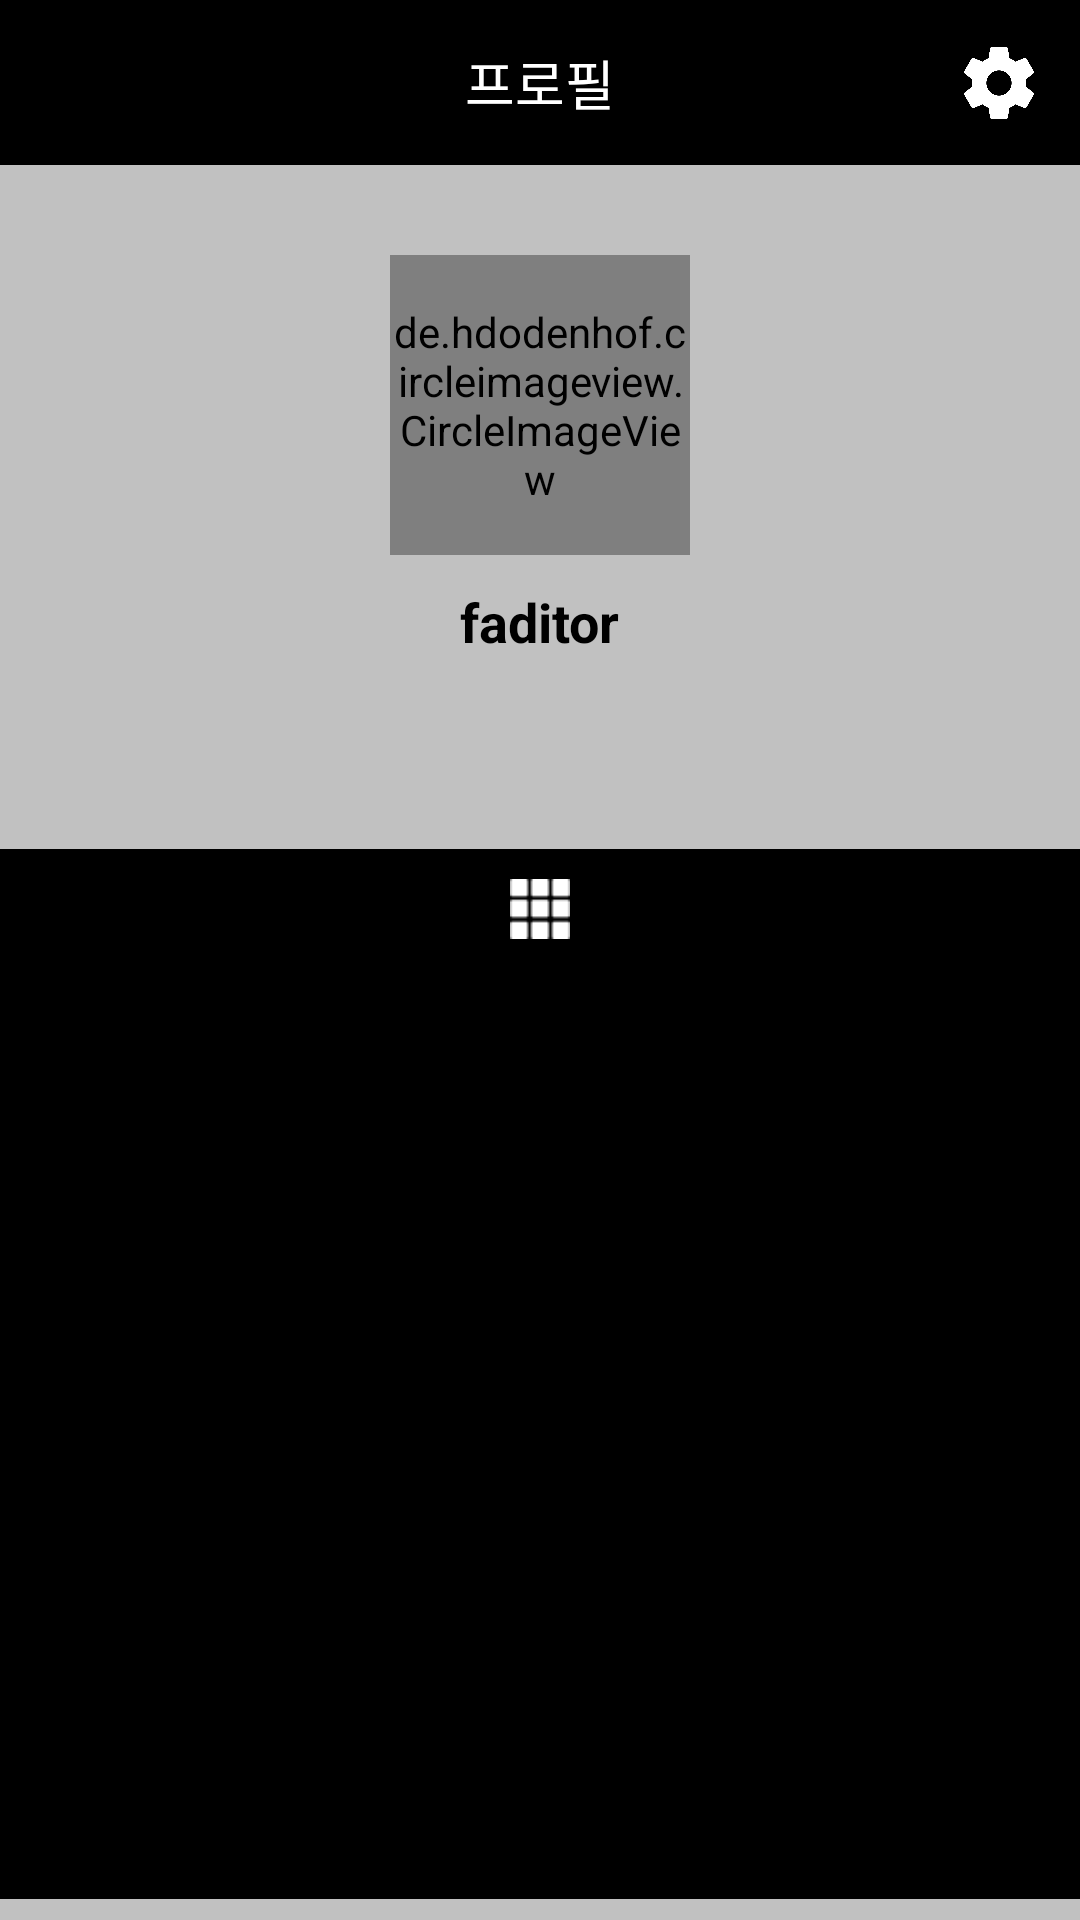

Icon click points for this 1080*1920 phone screenshot, format point (x, y):
grid: point (540, 909)
setting: point (999, 83)
